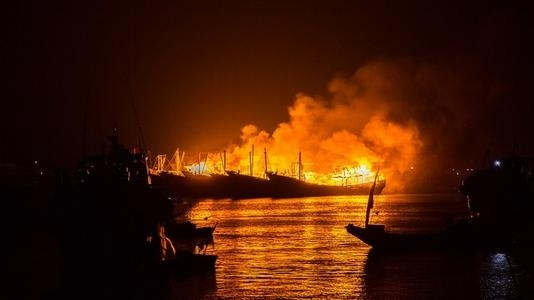fire: (158, 146, 402, 187)
